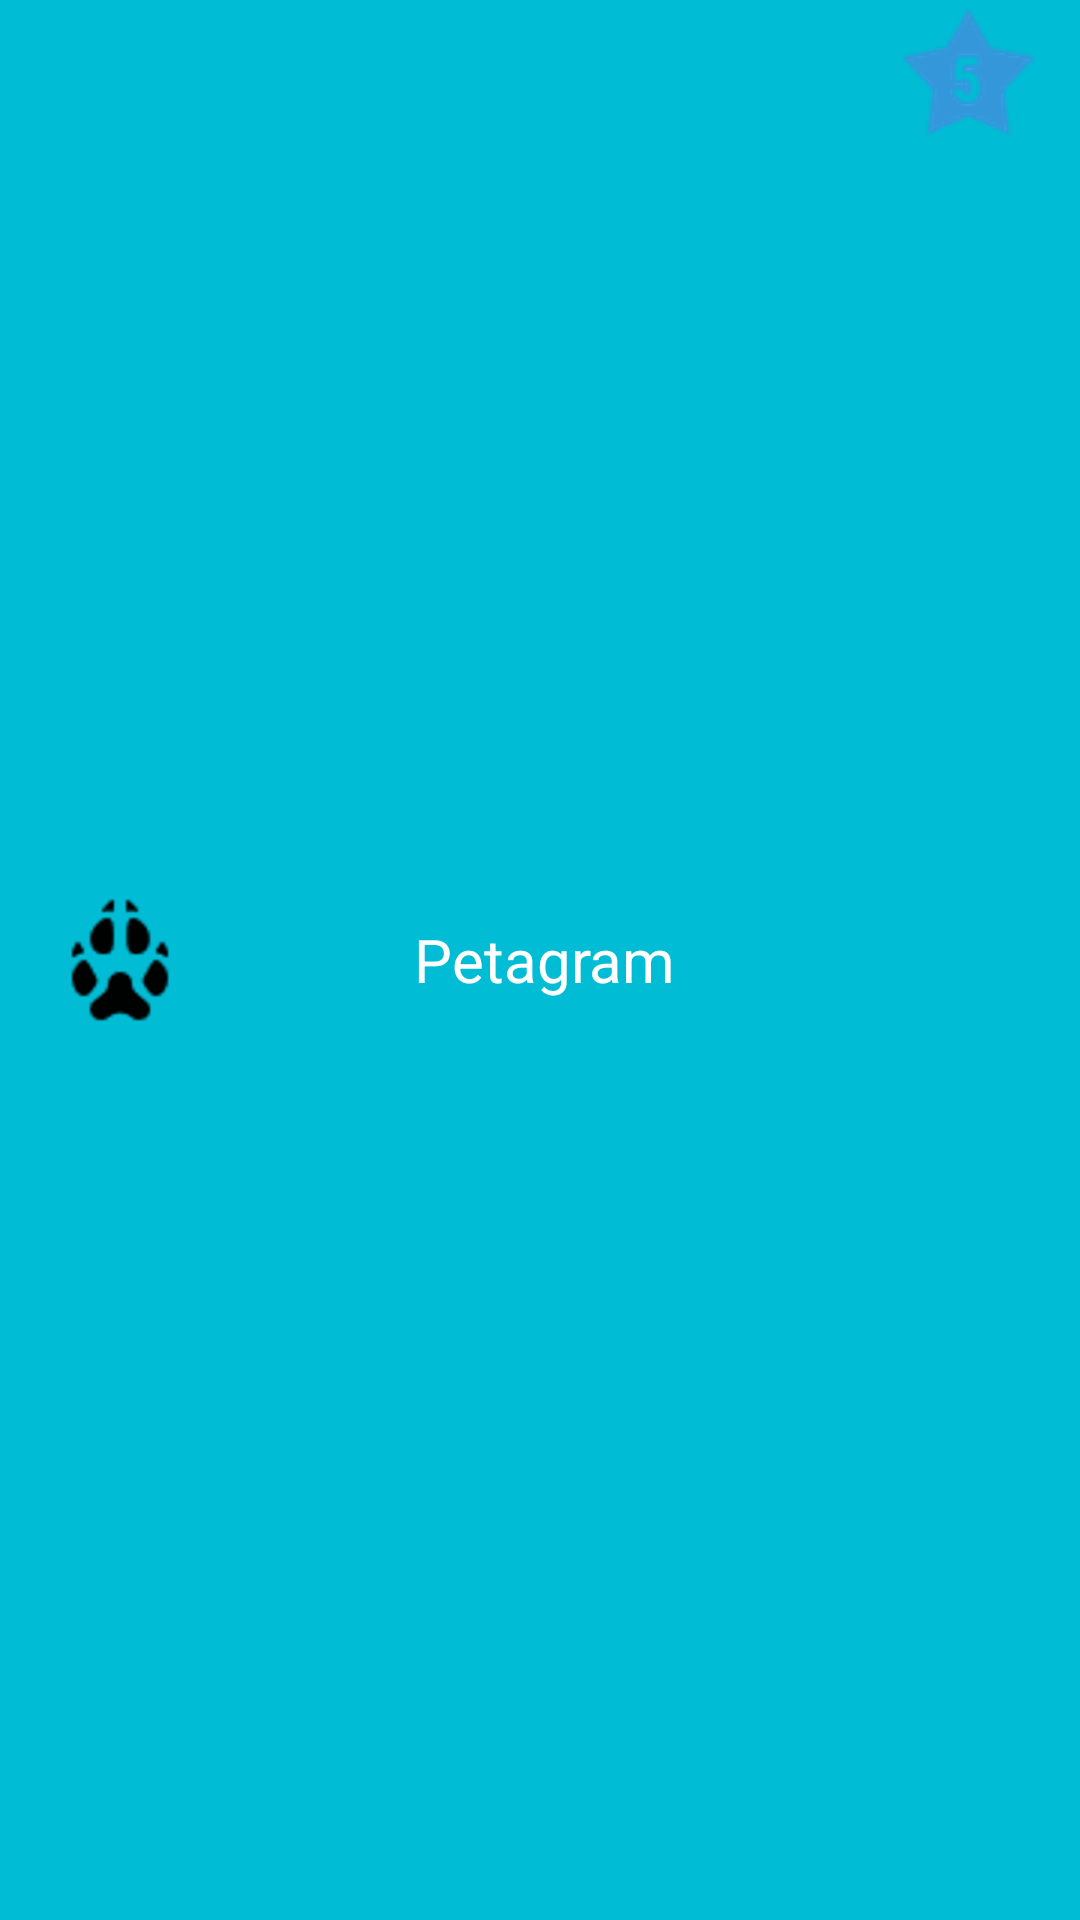

Screen size 1080px x 1920px. Icon name, then its box in pixels as (x1, y1, x2, y2):
dog footprint: (71, 899, 169, 1021)
estrella: (904, 11, 1033, 133)
